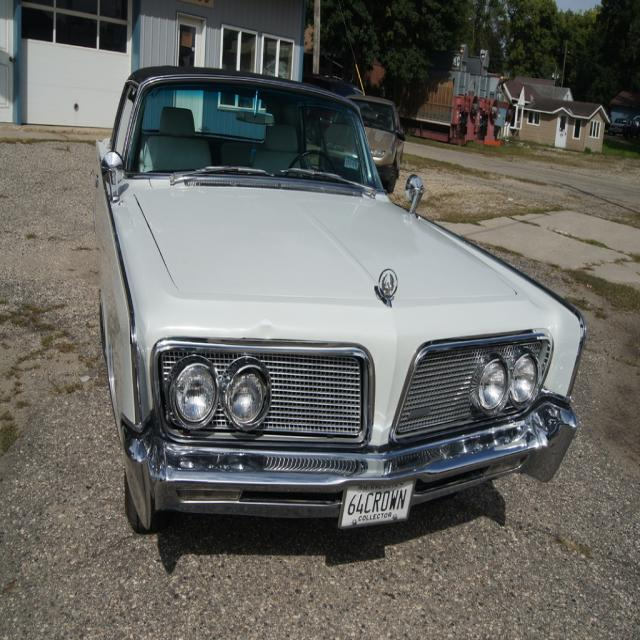car: (89, 64, 587, 533)
